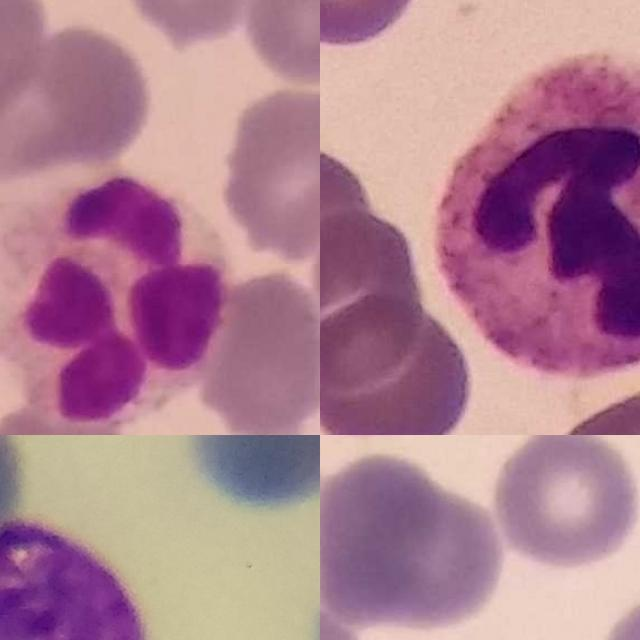Basophil: (0, 521, 151, 640)
Neutrophil: (434, 52, 640, 379), (0, 172, 233, 431)
